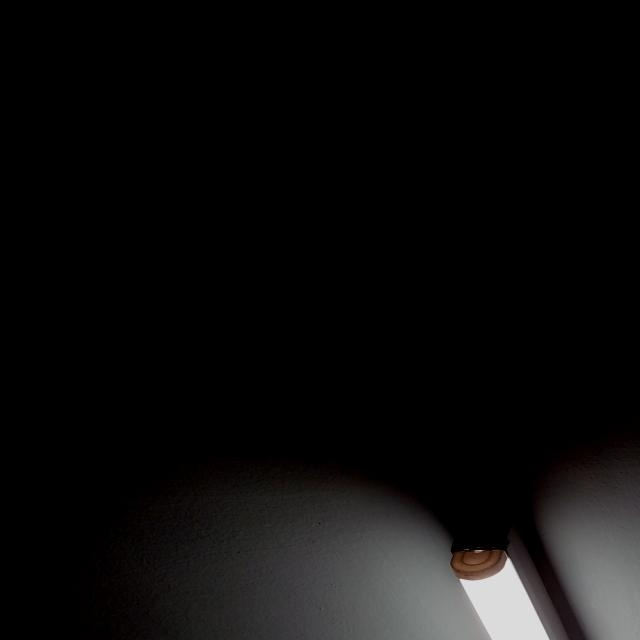fluorescent tube: (383, 481, 640, 640)
